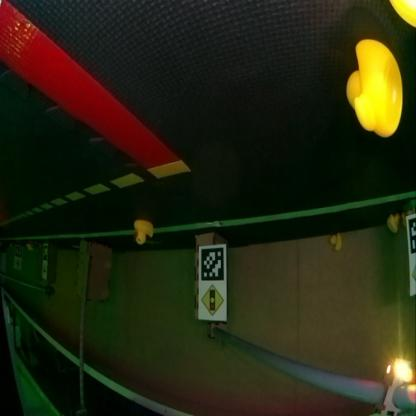Duckie: (346, 40, 402, 137), (133, 221, 153, 245), (330, 235, 341, 251)
QR code: (199, 247, 223, 281)
Signal sign: (199, 285, 223, 318)
Traffic light: (379, 360, 409, 414)
